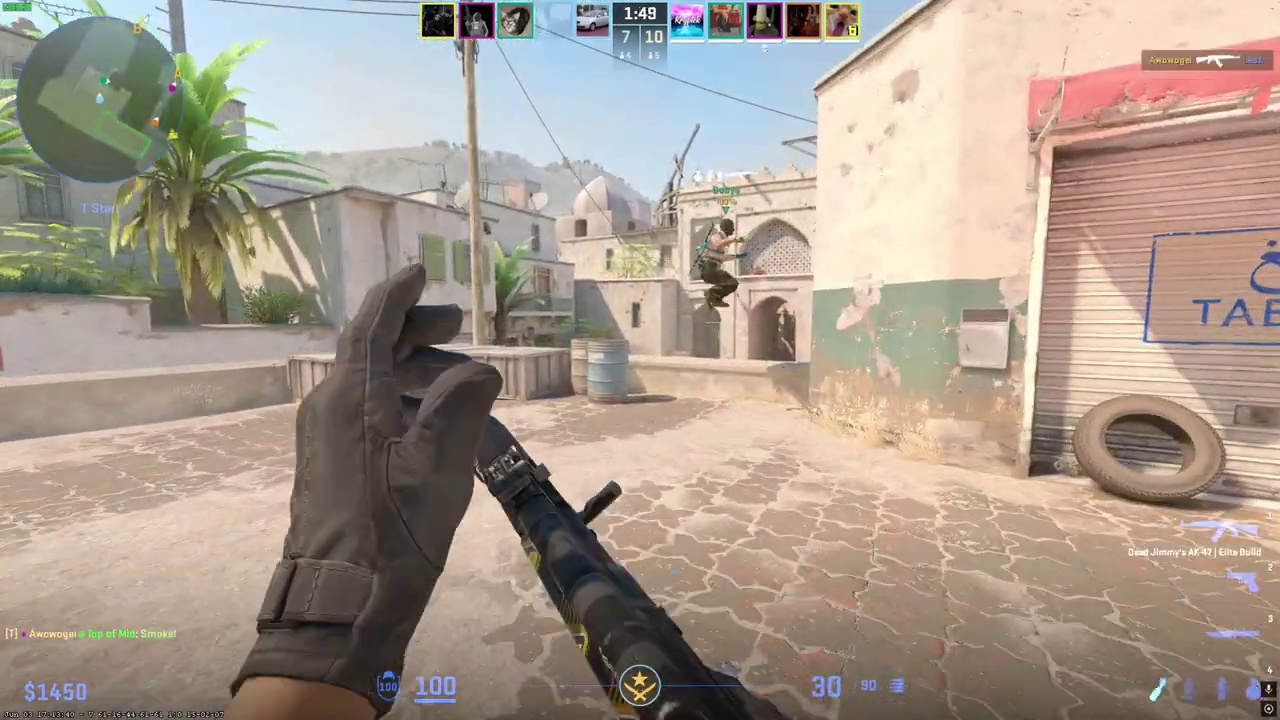Terrorist: (698, 218, 744, 310)
